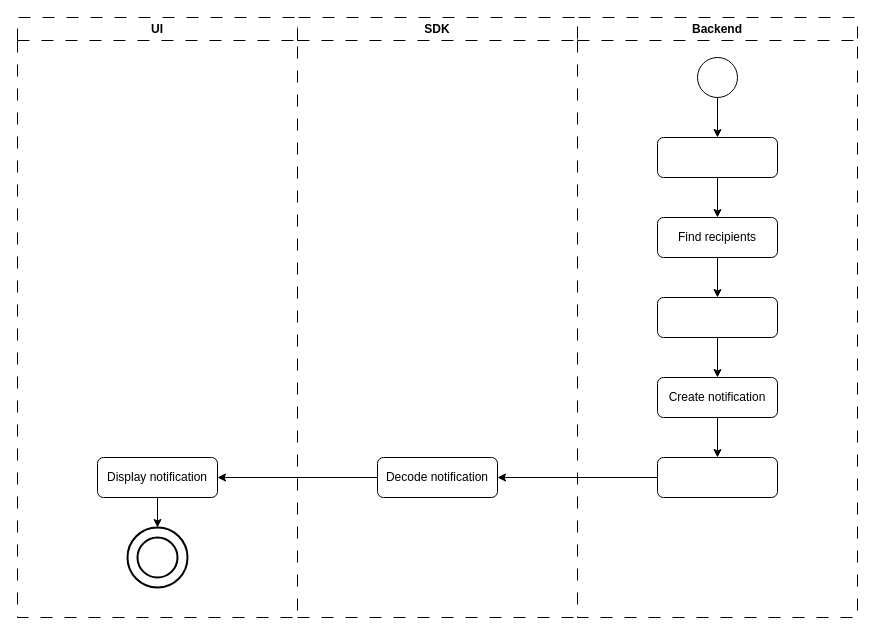
Image size: 875x636. Some labels were removed from this diagram. The shapes that lost their labels are listed below. From the top down, each one's centre as x and y in pixels, then its label:
(717,157): Event Received
(717,317): Find destinations
(717,477): Send notification
